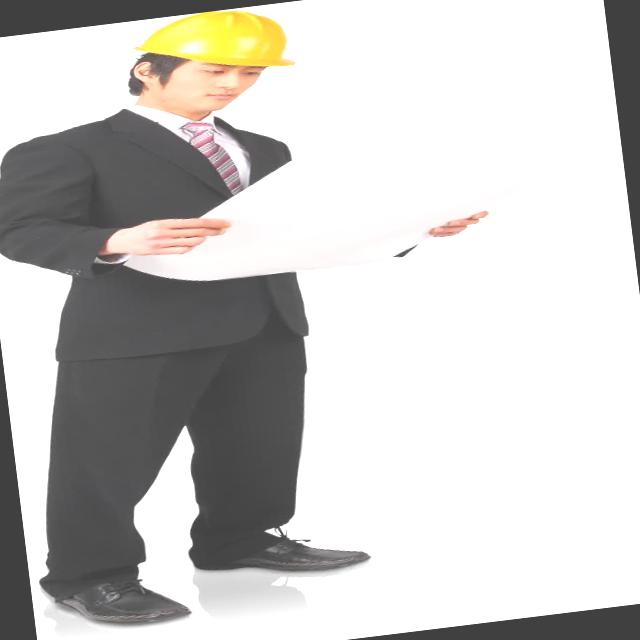helmet: (132, 2, 314, 84)
no-goggles: (156, 51, 270, 97)
no-vest: (4, 90, 342, 332)
